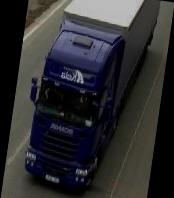truck: (16, 0, 161, 198)
